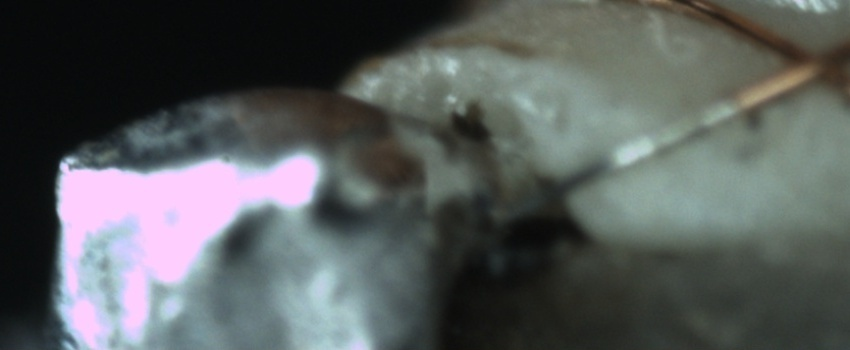CL: (758, 22, 848, 101)
TS: (529, 97, 740, 208)
